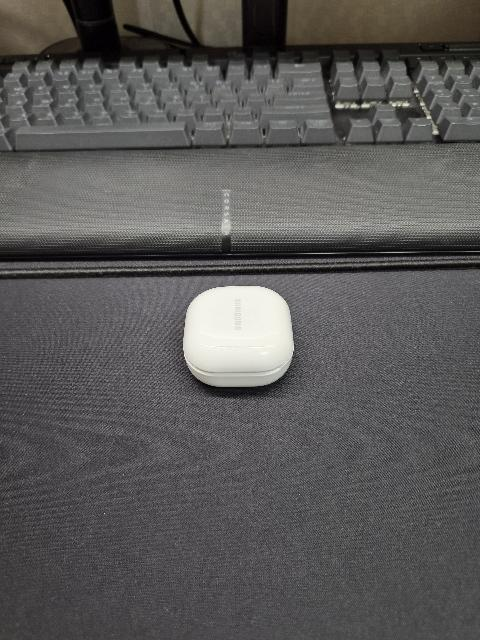earphone_case: (183, 285, 294, 387)
